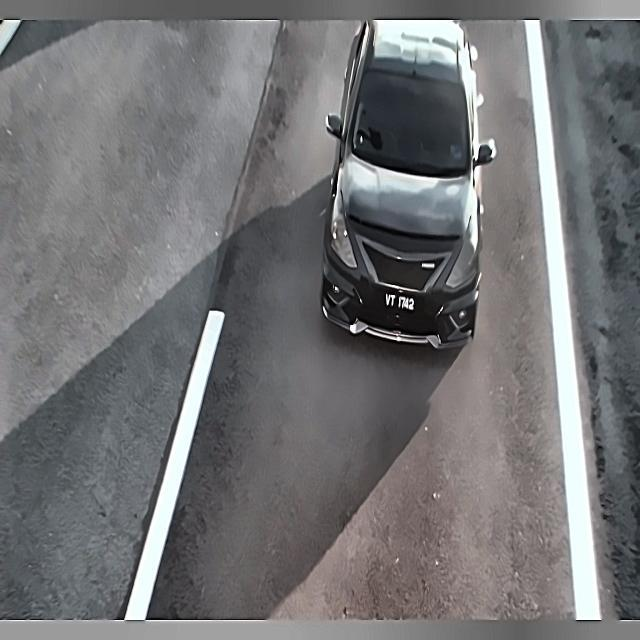car: (379, 285, 423, 322)
